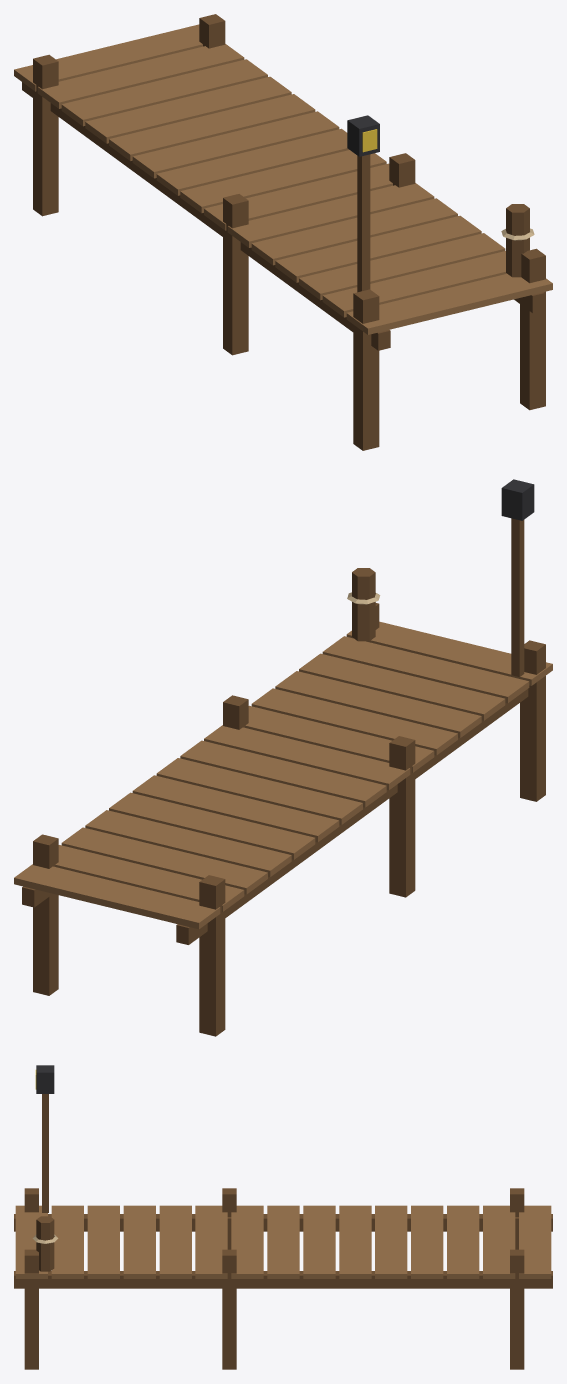
File: dock.glb
The picture shows the model from 3 angles, top to bottom: view 1: azimuth 30°, elevation 25°; view 2: azimuth 150°, elevation 25°; view 3: azimuth 270°, elevation 25°; orthographic projection. The views are drawn at different scales.
Parts seen in each view (by area): view 1: dock; view 2: dock; view 3: dock.
Part boxes in pixels (box(x1,y1,x2,y2)): dock: box(14, 14, 552, 450); dock: box(14, 479, 552, 1036); dock: box(14, 1065, 552, 1369).
Size of the model in its own units: 1.8 by 2.93 by 6.
